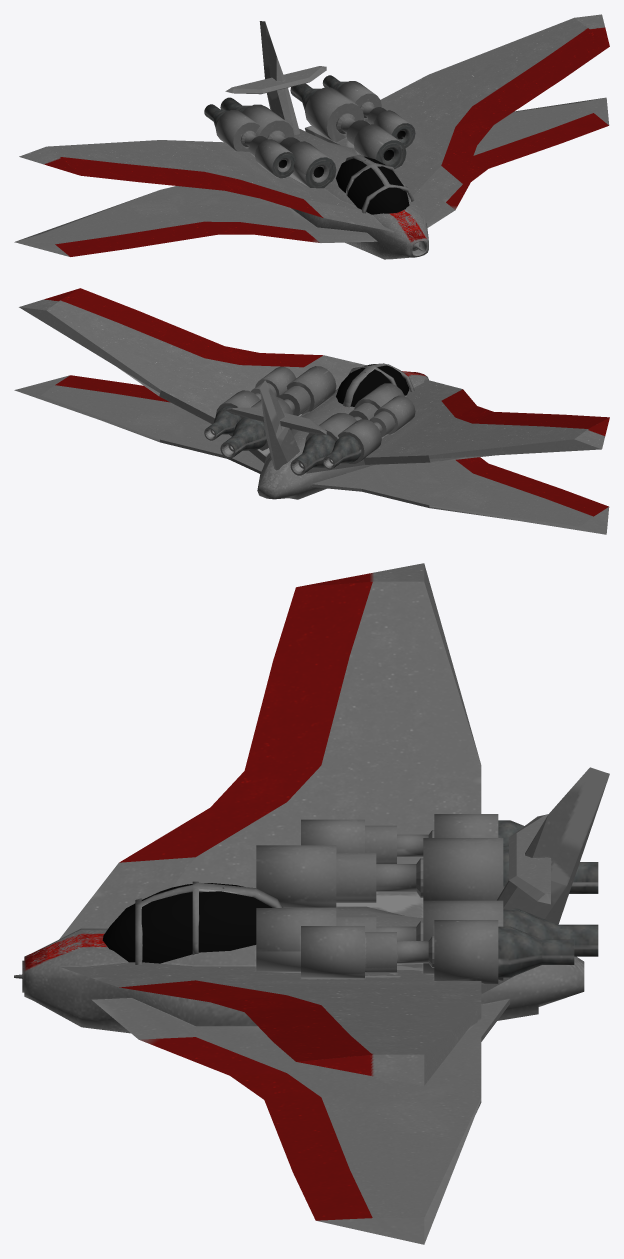
Rendered from Filono_Mark_1_v1.fbx.
3 views of the same model, one above another, from view 1: azimuth 30°, elevation 25°; view 2: azimuth 150°, elevation 25°; view 3: azimuth 270°, elevation 25° (orthographic). The views are drawn at different scales.
Visible parts, largest first — view 1: Plane; view 2: Plane; view 3: Plane.
Part boxes in pixels (x1=…): Plane: x1=14, y1=14, x2=609, y2=259; Plane: x1=14, y1=288, x2=609, y2=534; Plane: x1=14, y1=563, x2=609, y2=1244.
Size of the model in its own units: 2200 by 504 by 1043.
Materials: 3 (1 with a texture image).
